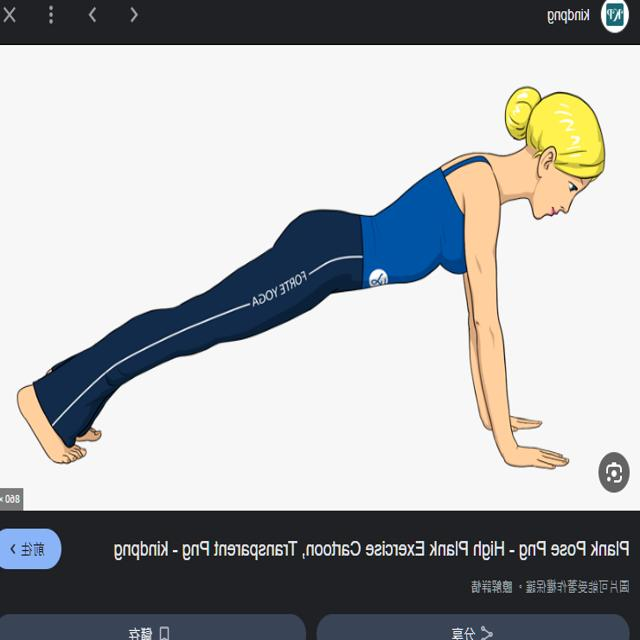Plank_Pose: (8, 78, 617, 471)
